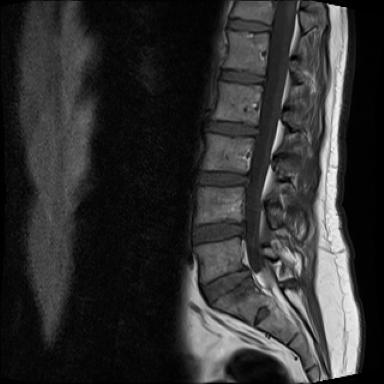Lumbar Disc Bulge (LDB): (196, 259, 260, 310), (185, 209, 253, 250), (189, 166, 259, 190)
Normal IVD: (199, 111, 263, 144), (213, 61, 267, 87), (223, 13, 272, 36)
Spinal Stenosis (SS): (233, 213, 256, 246), (240, 258, 258, 286)
